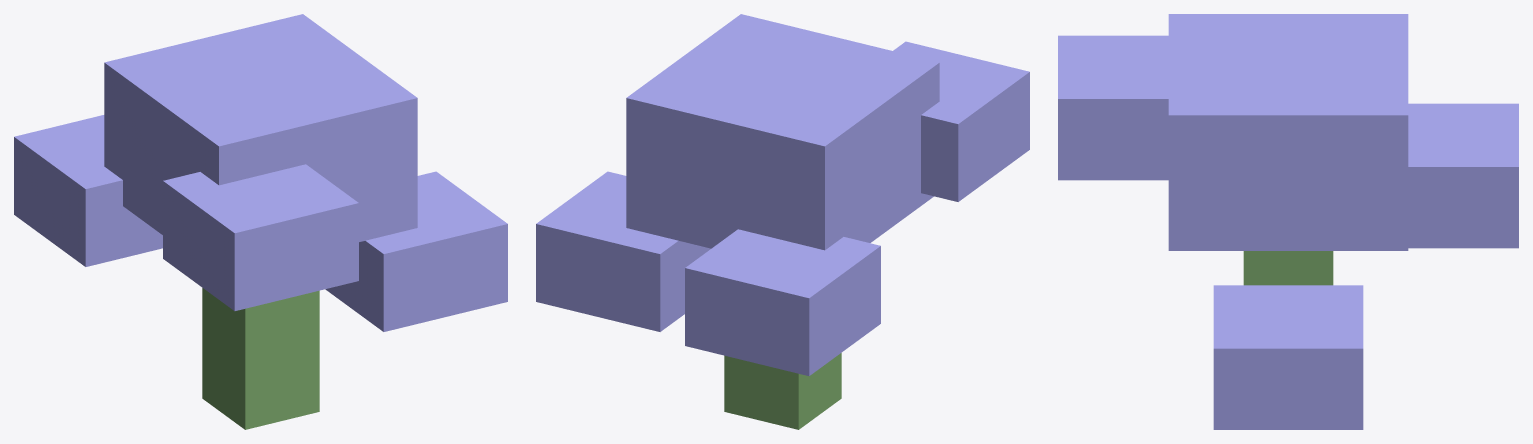
The model's file is Prop_DS_Herb_BufferBloom_S1_V2.glb.
3 renders of one model, left to right at view 1: azimuth 30°, elevation 25°; view 2: azimuth 150°, elevation 25°; view 3: azimuth 270°, elevation 25°, orthographic. The views are drawn at different scales.
Parts seen in each view (by area): view 1: Prop_DS_Herb_BufferBloom_S1_V2; view 2: Prop_DS_Herb_BufferBloom_S1_V2; view 3: Prop_DS_Herb_BufferBloom_S1_V2.
Boxes of the visible parts, x1=… form: Prop_DS_Herb_BufferBloom_S1_V2: x1=14, y1=14, x2=507, y2=429; Prop_DS_Herb_BufferBloom_S1_V2: x1=536, y1=14, x2=1029, y2=429; Prop_DS_Herb_BufferBloom_S1_V2: x1=1058, y1=14, x2=1518, y2=429.
Size of the model in its own units: 0.28 by 0.25 by 0.3078.
